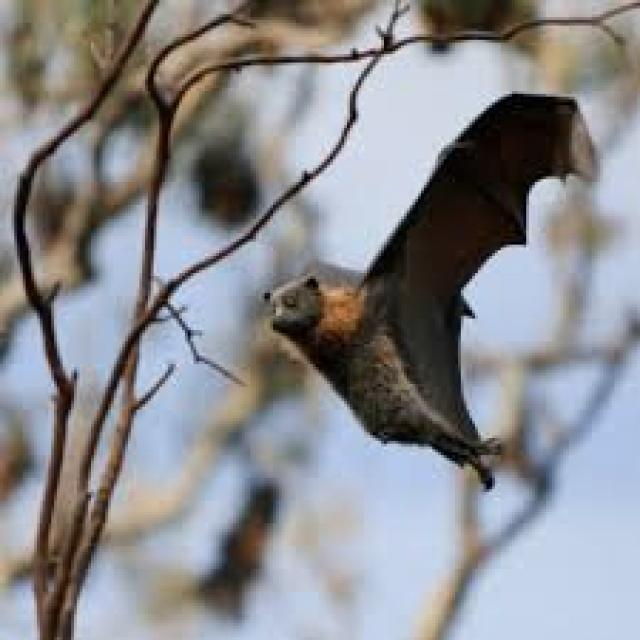bat: (265, 94, 592, 486)
